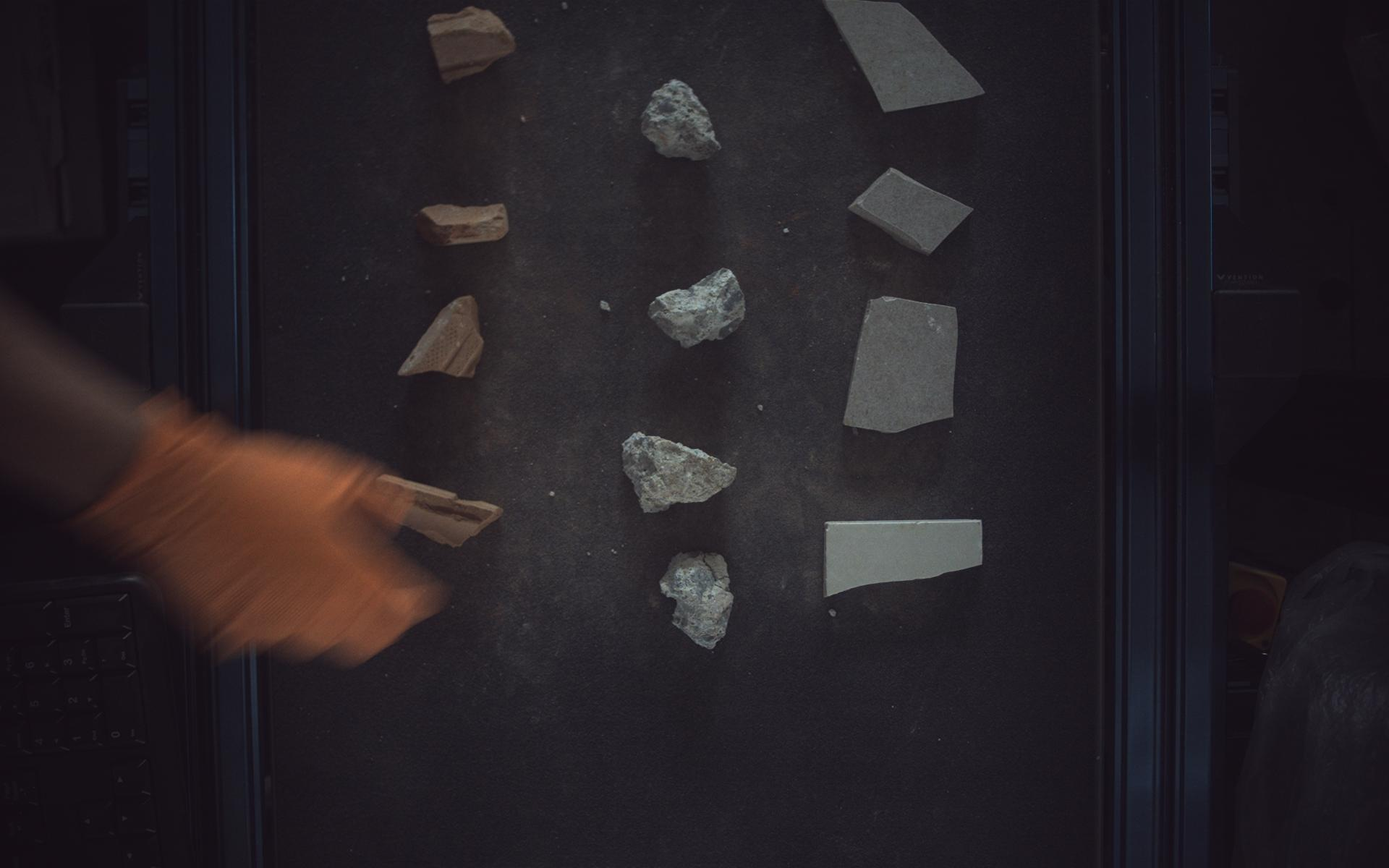brick: (378, 475, 503, 548), (398, 295, 484, 378), (428, 4, 517, 82), (416, 203, 509, 245)
concrete: (624, 433, 738, 514), (650, 268, 747, 348), (661, 553, 734, 650), (642, 79, 721, 160)
tile: (827, 1, 986, 111), (845, 296, 960, 433), (826, 520, 985, 597), (850, 166, 974, 255)
